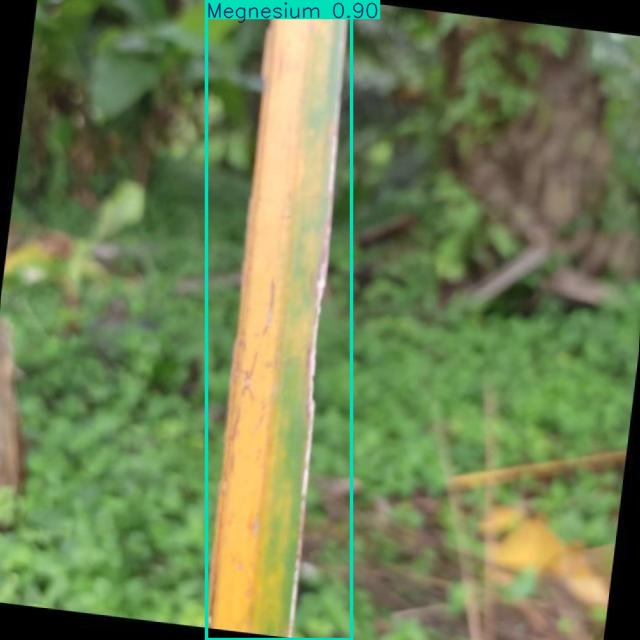Megnesium: (207, 0, 351, 640)
